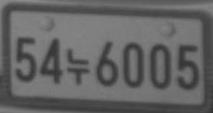0: (149, 43, 172, 89), (121, 42, 144, 87)
4: (39, 37, 64, 84)
5: (14, 36, 37, 82), (176, 44, 199, 90)
6: (95, 40, 119, 87)
누: (66, 46, 90, 87)
